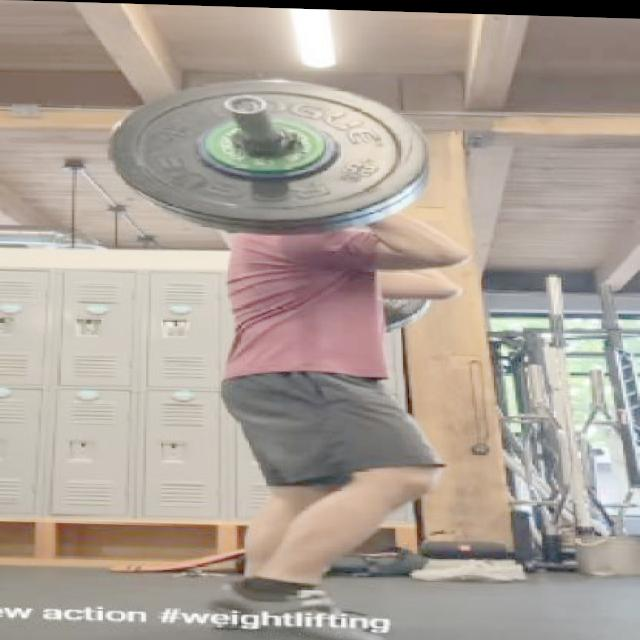barbell: (100, 68, 432, 231)
